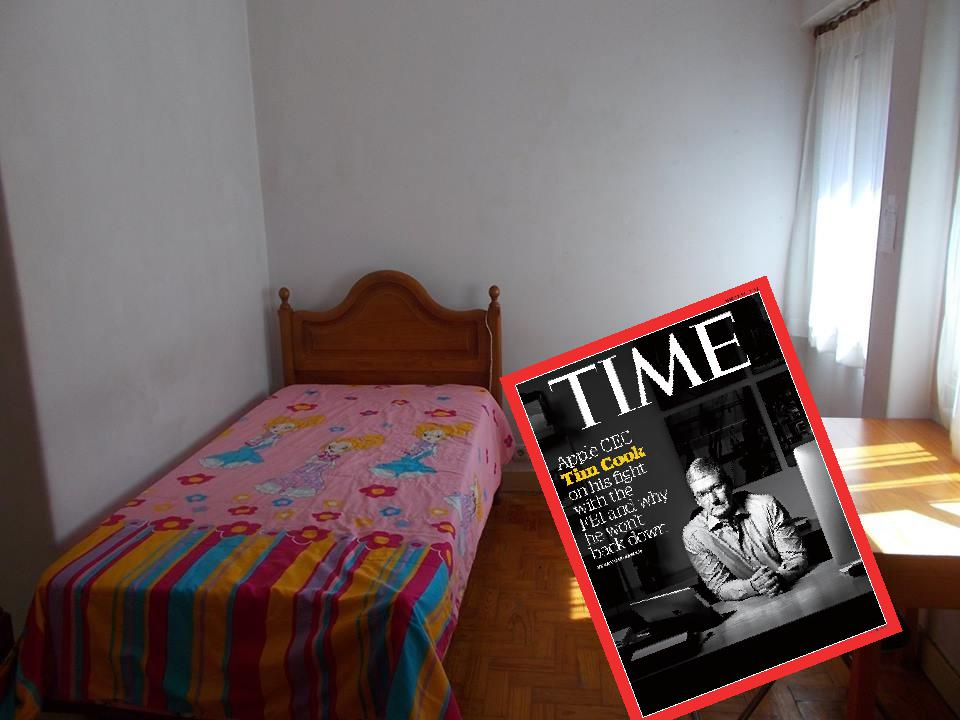times: (496, 270, 902, 720)
